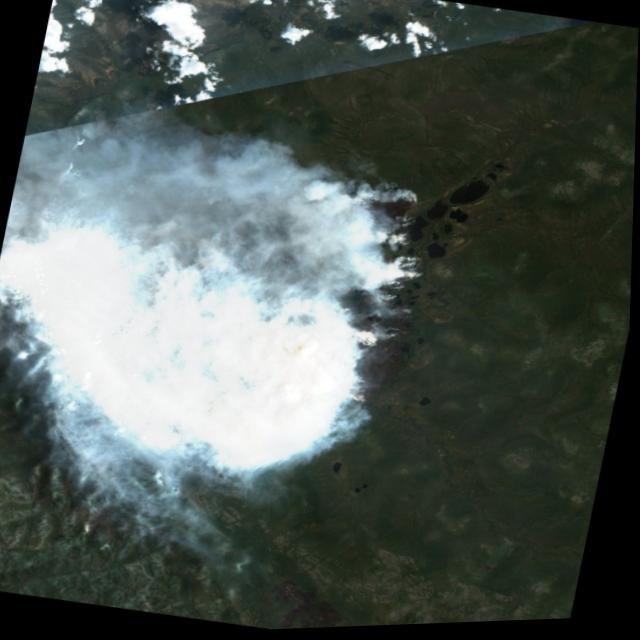fire: (187, 153, 445, 421)
